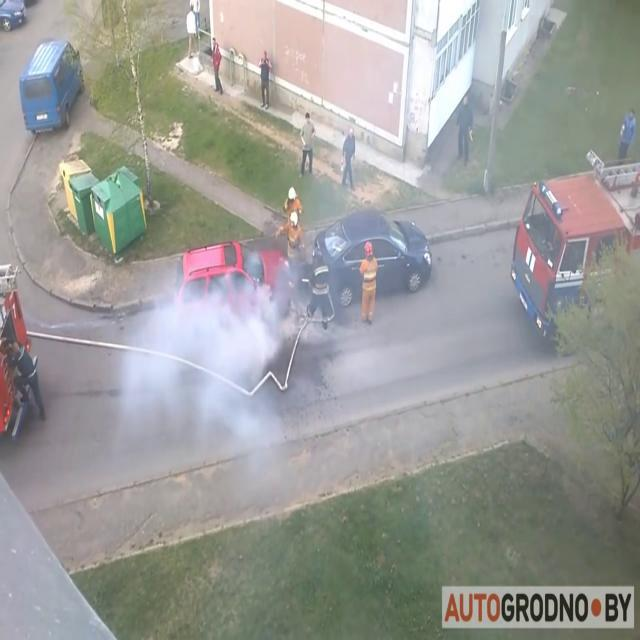Smoke: (124, 250, 287, 496)
